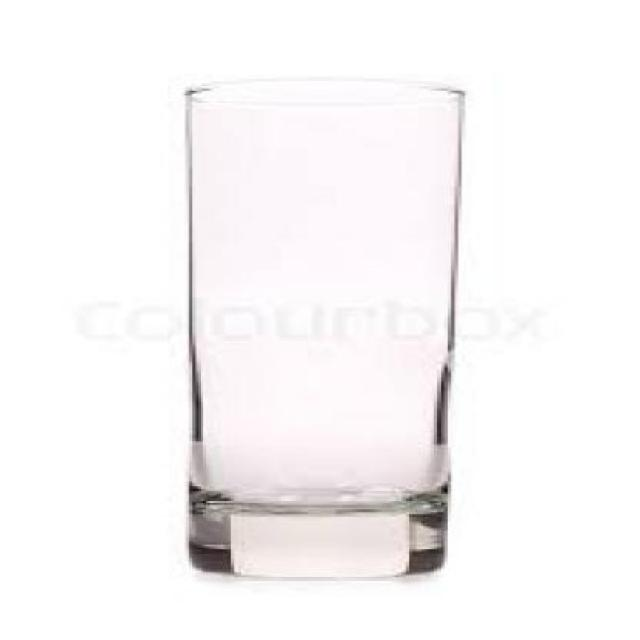kaca: (183, 77, 466, 572)
